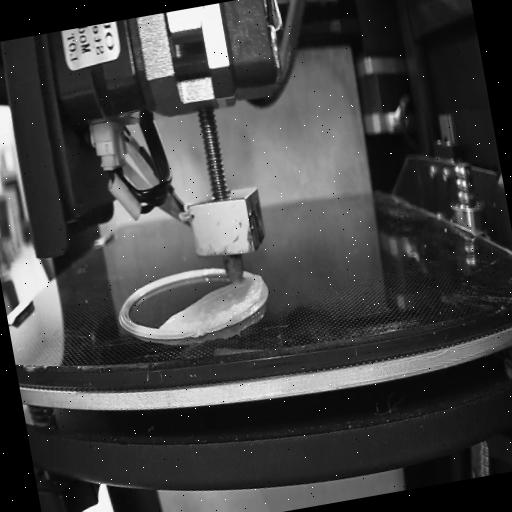over_extrusion: (156, 282, 238, 332), (248, 269, 269, 311)
